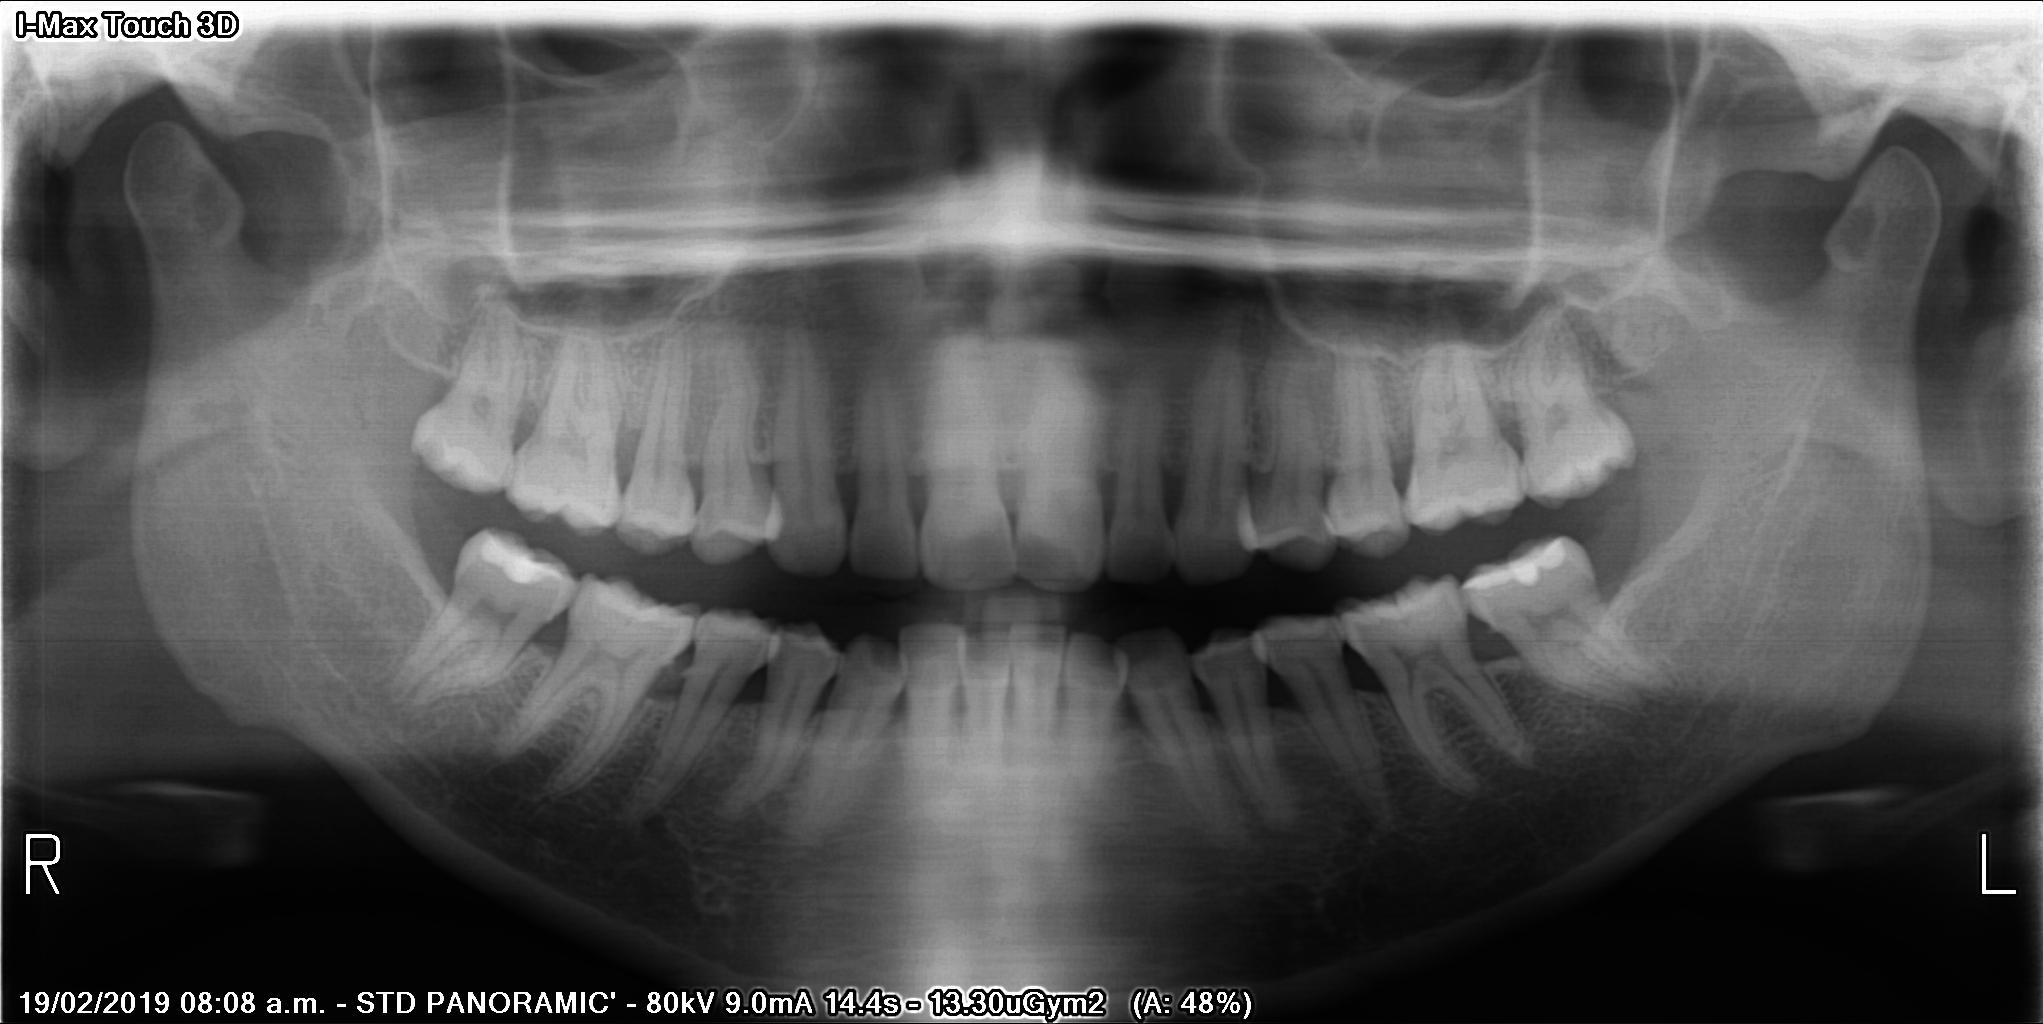Çürük: (1457, 538, 1577, 602), (473, 526, 568, 597)
